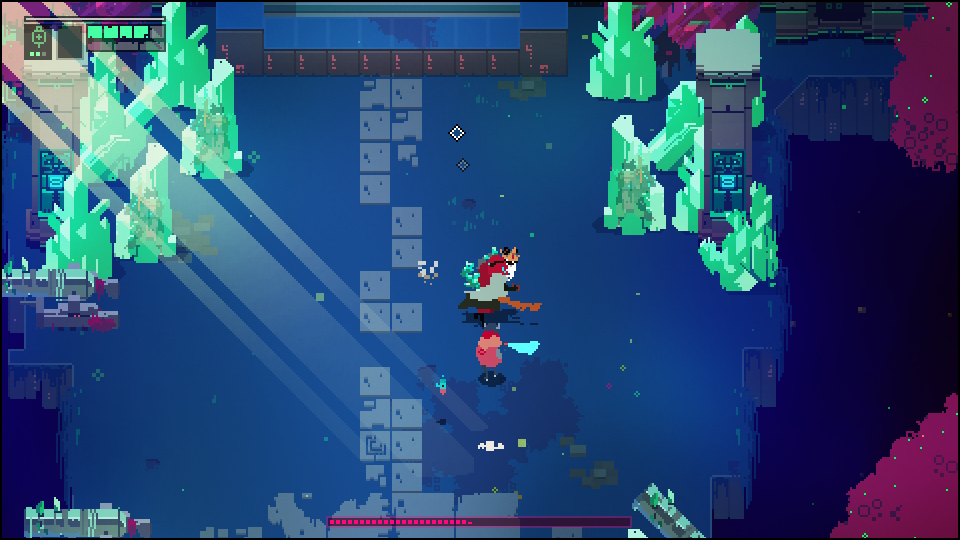hanged_man: (456, 243, 527, 310)
player: (474, 320, 544, 387)
